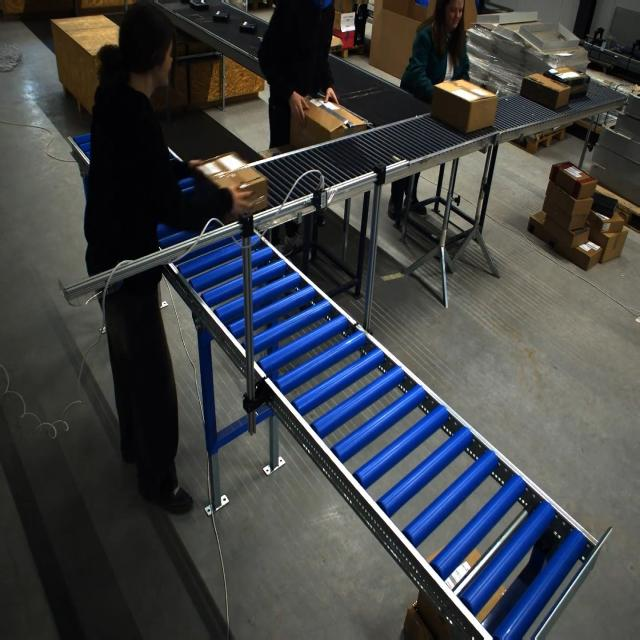box: (194, 153, 266, 220), (430, 78, 499, 134), (298, 97, 355, 148)
product: (239, 21, 257, 34), (212, 11, 230, 22), (189, 0, 208, 10)
